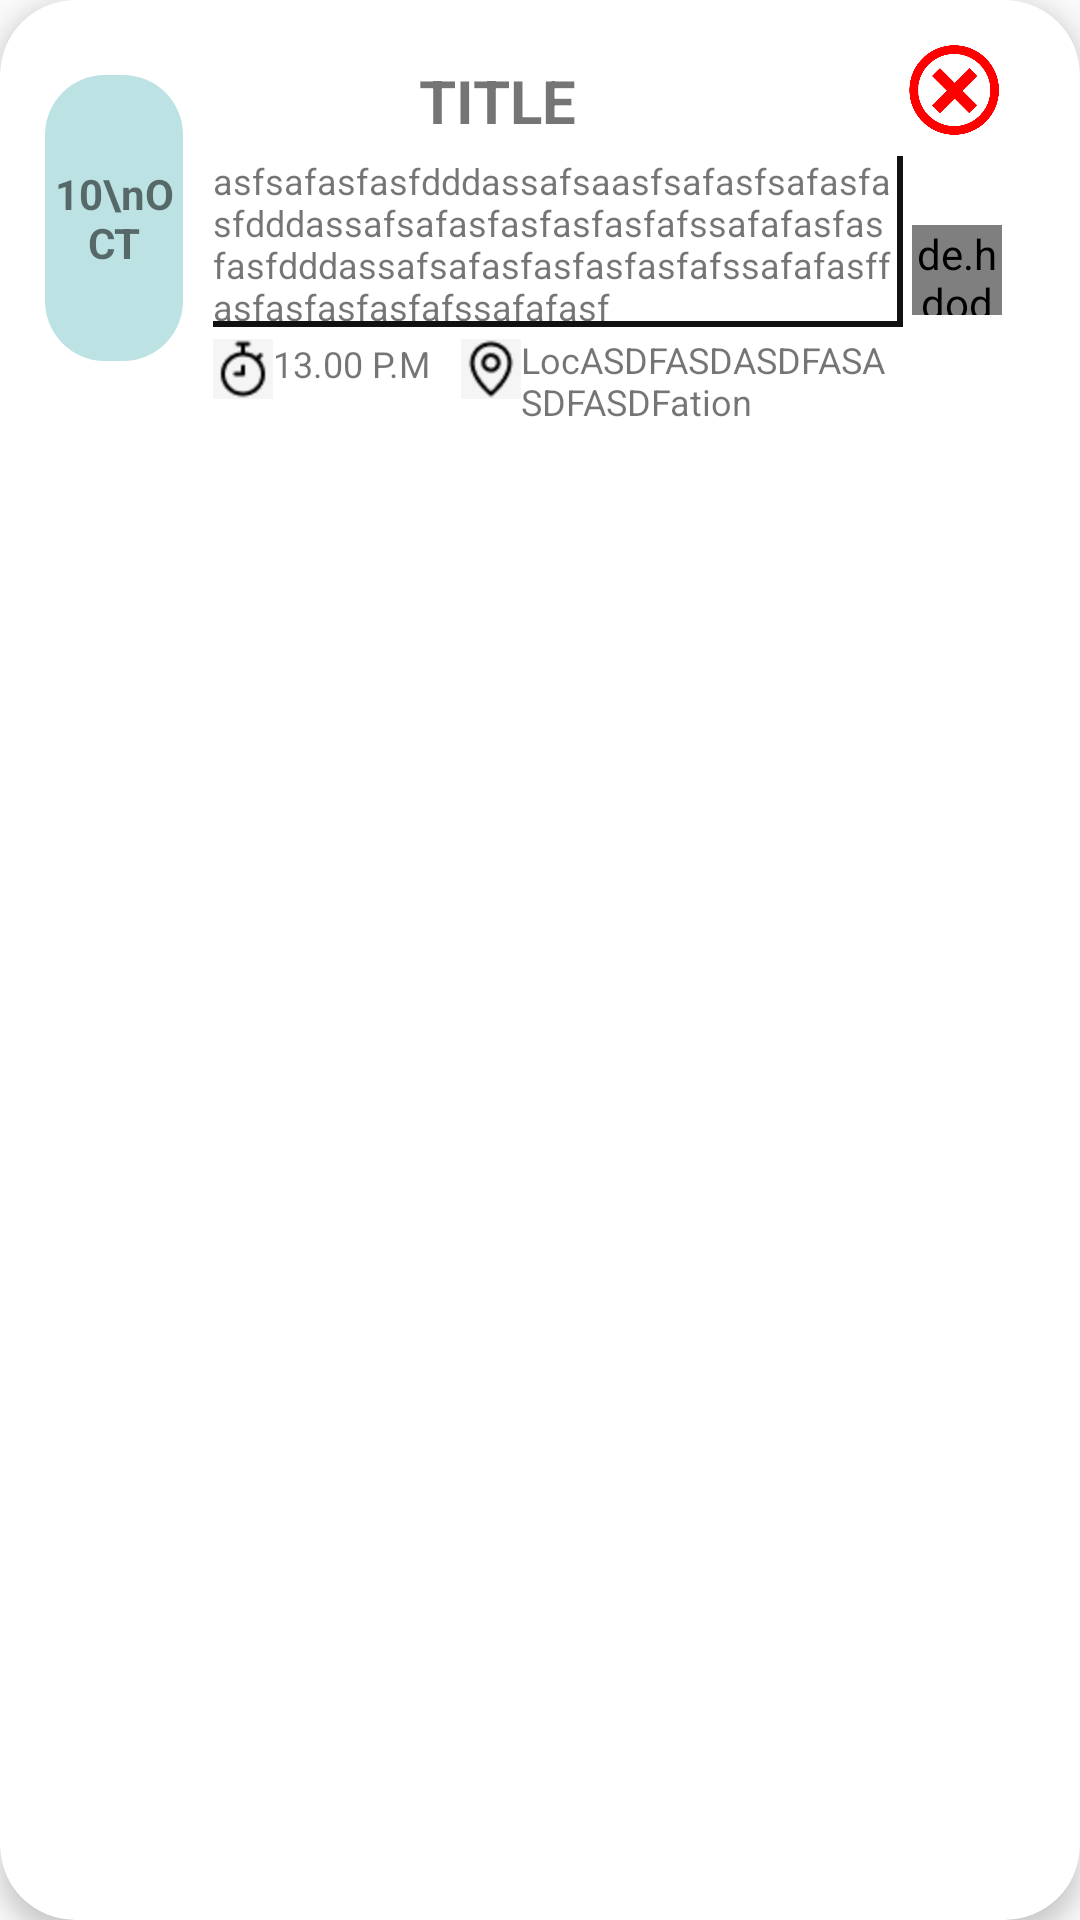

Screen size 1080px×1920px. Icon name, then its box in pixels as (x1, y1, x2, y2):
cancel: (909, 45, 999, 135)
location: (468, 340, 514, 398)
time: (213, 339, 273, 399)
